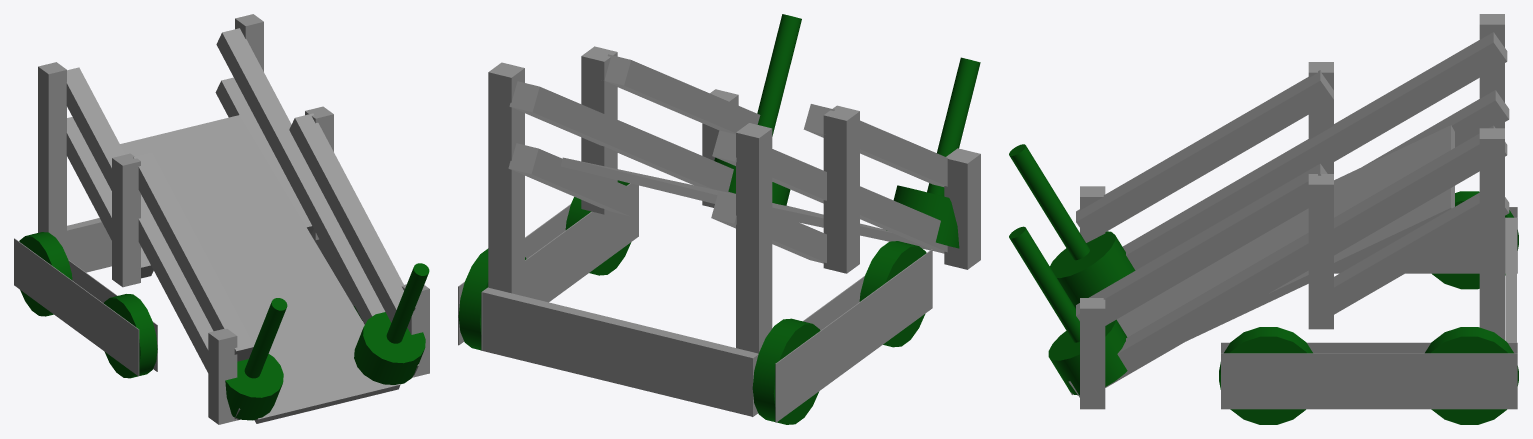
File: tu_roller.FBX
The picture shows the model from 3 angles, left to right: view 1: azimuth 30°, elevation 25°; view 2: azimuth 150°, elevation 25°; view 3: azimuth 270°, elevation 25°; orthographic projection. The views are drawn at different scales.
Parts seen in each view (by area): view 1: Box012, armL1, armR1, armL3, armR3, Box004, Box007, Box018, Cylinder006, Cylinder005, armR2, Box019 (+10 smaller); view 2: Box002, Box004, Box007, Box006, armL1, Box005, Box018, armR1, armL3, armL2, Box019, armR3 (+14 smaller); view 3: Box003, armR1, armL1, Box012, armR3, armL3, armL2, Box006, Box017, Cylinder005, Box020, Cylinder001 (+12 smaller).
Part boxes in pixels (left/top/right/bottom): Box012: left=120, top=115, right=400, bottom=423; armL1: left=216, top=28, right=418, bottom=375; armR1: left=66, top=67, right=240, bottom=420; armL3: left=289, top=113, right=415, bottom=322; armR3: left=133, top=152, right=253, bottom=361; Box004: left=14, top=238, right=139, bottom=376; Box007: left=38, top=62, right=66, bottom=255; Box018: left=112, top=153, right=140, bottom=287; Cylinder006: left=354, top=312, right=425, bottom=384; Cylinder005: left=225, top=354, right=283, bottom=420; armR2: left=66, top=117, right=153, bottom=278; Box019: left=208, top=329, right=237, bottom=424; Box002: left=482, top=288, right=758, bottom=416; Box004: left=775, top=249, right=932, bottom=422; Box007: left=736, top=123, right=772, bottom=353; Box006: left=488, top=62, right=524, bottom=296; armL1: left=509, top=81, right=735, bottom=193; Box005: left=481, top=183, right=638, bottom=350; Box018: left=823, top=105, right=859, bottom=273; armR1: left=712, top=130, right=947, bottom=253; armL3: left=604, top=54, right=760, bottom=134; armL2: left=508, top=143, right=637, bottom=216; Box019: left=944, top=148, right=980, bottom=269; armR3: left=803, top=104, right=947, bottom=186; Box003: left=1221, top=353, right=1517, bottom=409; armR1: left=1123, top=32, right=1507, bottom=270; armL1: left=1068, top=125, right=1507, bottom=397; Box012: left=1069, top=125, right=1454, bottom=394; armR3: left=1076, top=70, right=1333, bottom=241; armL3: left=1076, top=163, right=1327, bottom=325; armL2: left=1334, top=192, right=1509, bottom=314; Box006: left=1479, top=128, right=1504, bottom=339; Box017: left=1308, top=174, right=1333, bottom=329; Cylinder005: left=1050, top=231, right=1135, bottom=308; Box020: left=1080, top=298, right=1105, bottom=409; Cylinder001: left=1219, top=327, right=1312, bottom=424.
Bounding box in the file's own units: 0.3571 × 0.3146 × 0.5237.
